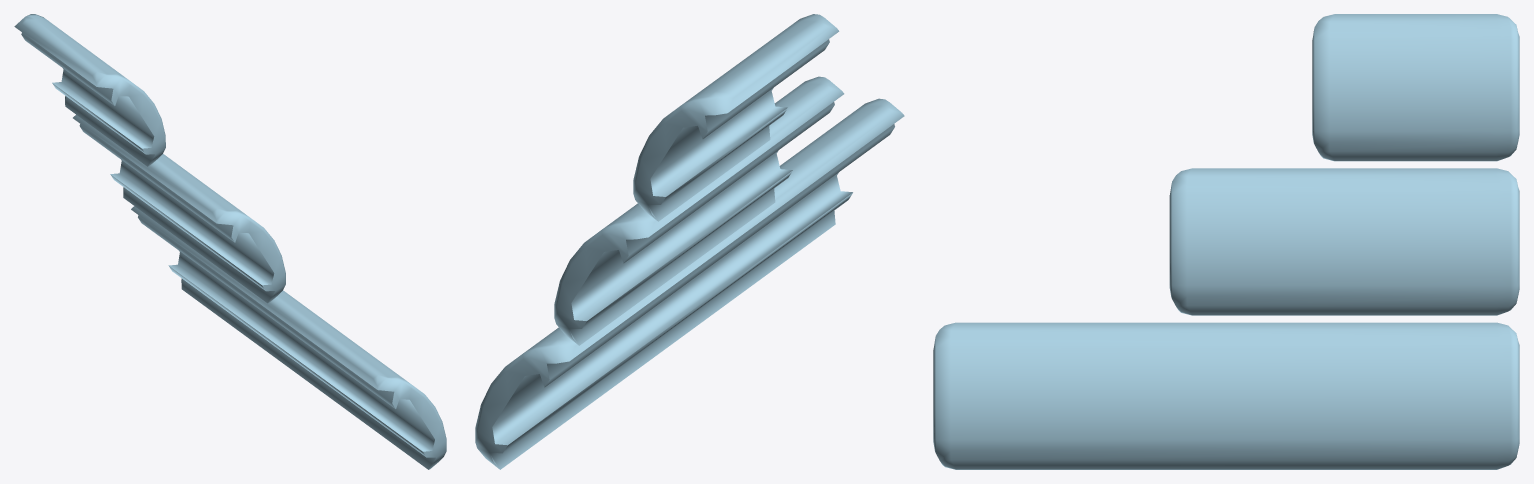
Rendered from railcovers_render.fbx.
The picture shows the model from 3 angles, left to right: view 1: azimuth 30°, elevation 25°; view 2: azimuth 150°, elevation 25°; view 3: azimuth 270°, elevation 25°; orthographic projection. The views are drawn at different scales.
Parts seen in each view (by area): view 1: SKM_1P_M16A4_KACRailCover_1; view 2: SKM_1P_M16A4_KACRailCover_1; view 3: SKM_1P_M16A4_KACRailCover_1.
Boxes of the visible parts, <box> form: SKM_1P_M16A4_KACRailCover_1: <box>14,14,446,469</box>; SKM_1P_M16A4_KACRailCover_1: <box>475,14,904,469</box>; SKM_1P_M16A4_KACRailCover_1: <box>933,14,1519,469</box>.
Size of the model in its own units: 551 by 903 by 1325.
